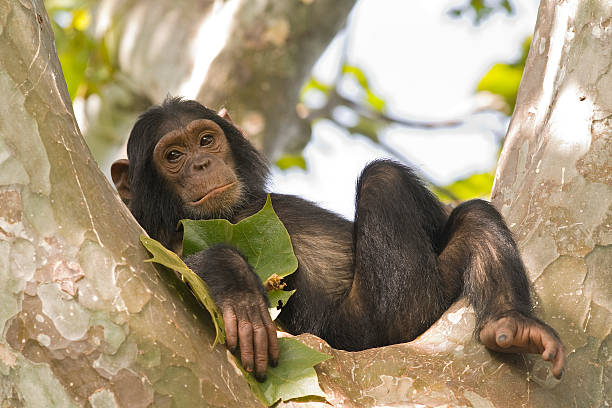chimpanzee: (68, 67, 306, 267)
